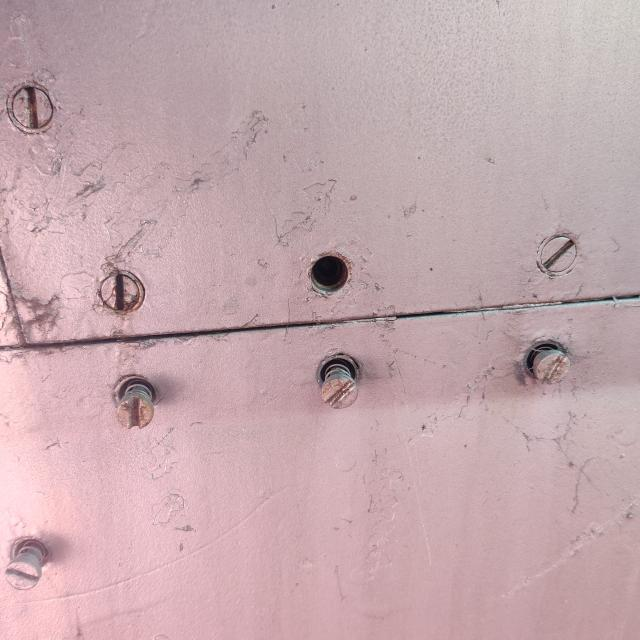Fastener Damage: (282, 215, 384, 320)
